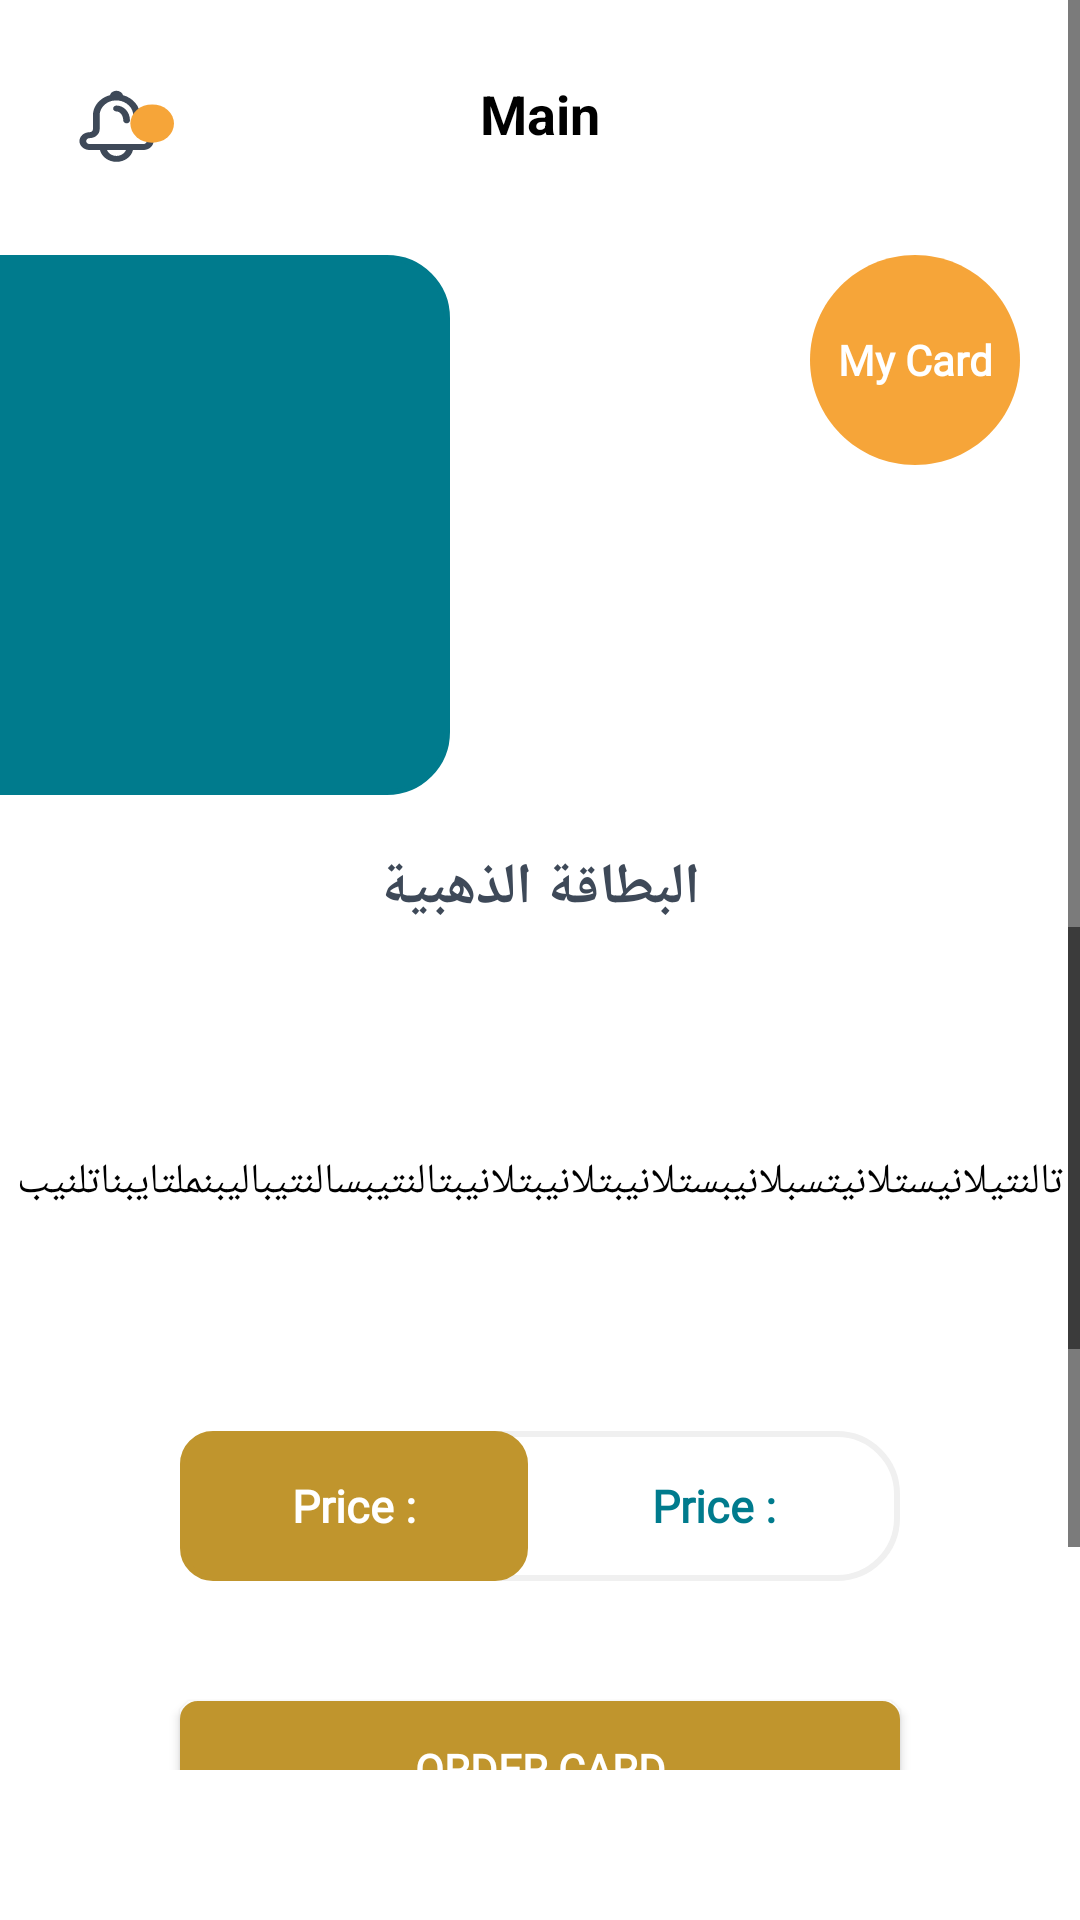

Named icons in this screenshot (1080×1920) and their bounding boxes, (x1, y1, x2, y2):
notifications: (79, 90, 174, 162)
